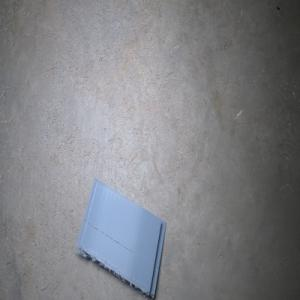PlasticPart: (74, 177, 166, 299)
